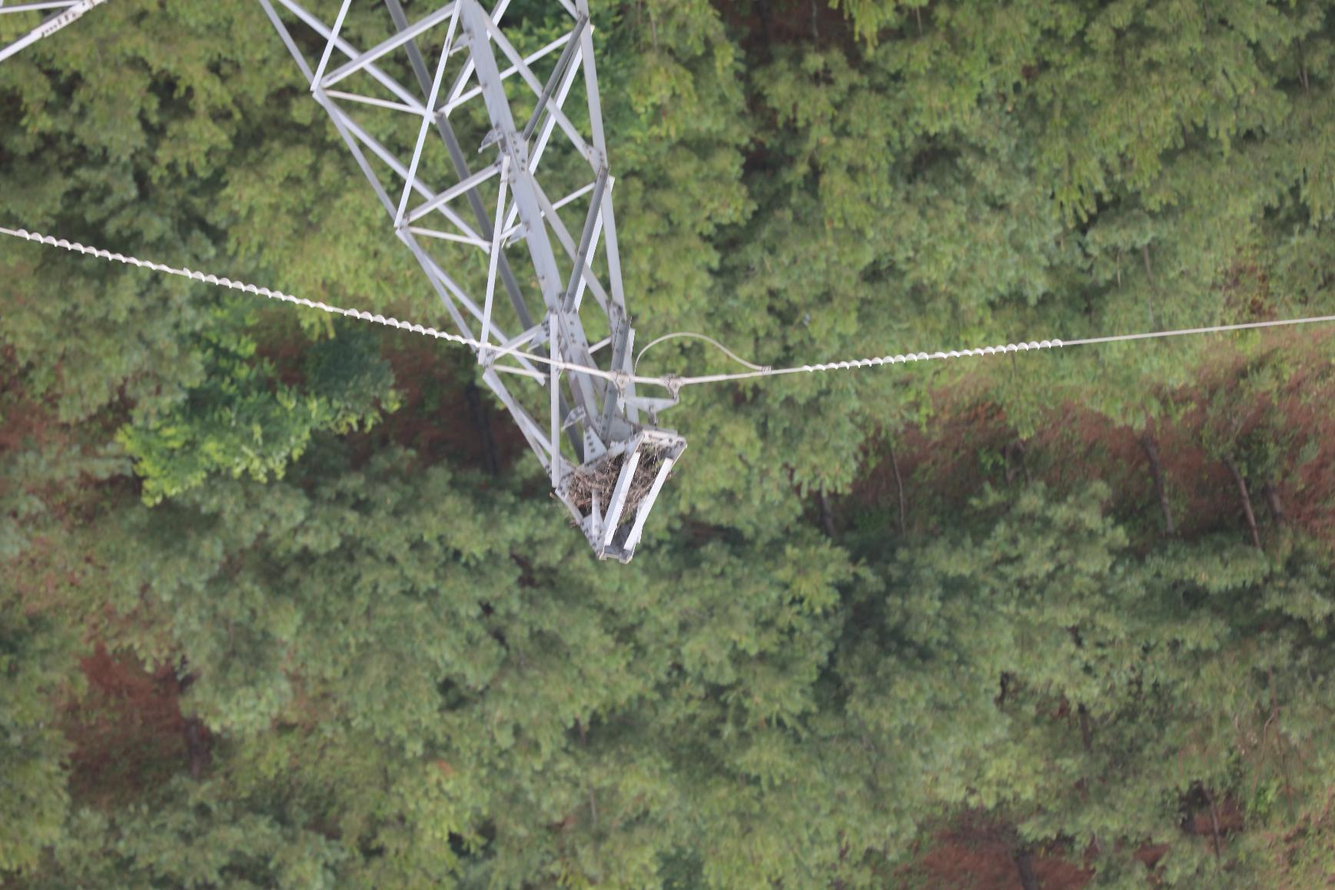nest: (566, 450, 662, 515)
